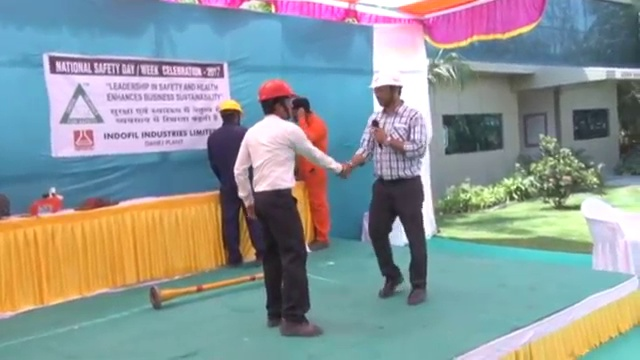helmet: (257, 79, 298, 100), (366, 69, 407, 89), (217, 98, 245, 116)
helmet_off: (288, 92, 312, 124)
helmet_on: (366, 67, 409, 116), (256, 79, 298, 121), (214, 96, 246, 130)
person: (234, 79, 345, 337), (345, 67, 429, 306), (207, 96, 267, 269), (289, 91, 331, 252)
